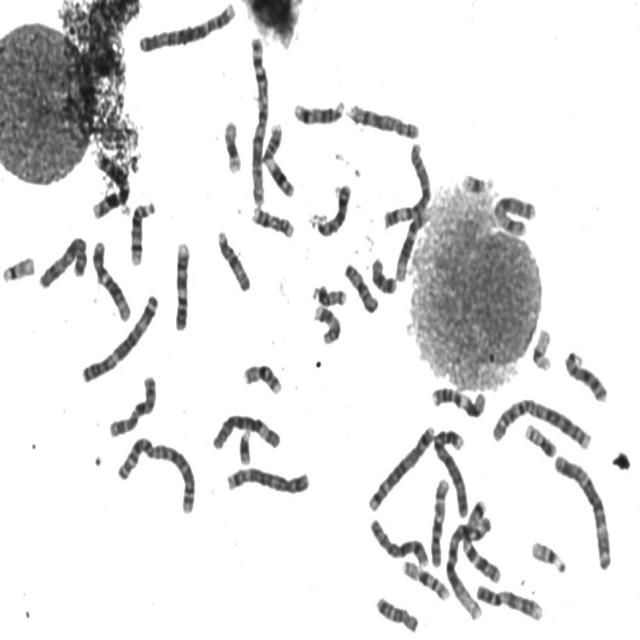A1: (442, 509, 493, 621), (246, 29, 271, 209)
A2: (114, 431, 198, 517), (488, 391, 594, 452)
A3: (78, 289, 162, 385), (551, 449, 614, 572)
B4: (136, 0, 238, 56), (430, 422, 471, 520)
B5: (365, 420, 436, 514), (223, 462, 312, 497)
C10: (106, 371, 159, 438), (428, 472, 452, 568)
C11: (260, 118, 298, 200), (428, 381, 488, 420)
C12: (89, 235, 133, 324), (392, 202, 433, 282)
C6: (381, 138, 434, 232), (208, 408, 283, 453)
C7: (462, 494, 504, 585), (88, 150, 132, 220)
C8: (366, 514, 431, 569), (344, 98, 421, 140)
C9: (473, 579, 545, 623), (170, 236, 192, 333)
D13: (562, 345, 610, 404), (310, 179, 352, 239)
D14: (127, 196, 157, 267), (290, 95, 347, 127)
D15: (214, 225, 253, 294), (342, 258, 381, 315)
E16: (399, 556, 452, 602), (240, 359, 284, 396)
E17: (248, 201, 296, 240), (310, 302, 342, 346)
E18: (372, 591, 420, 635), (368, 252, 399, 296)
F19: (220, 114, 243, 176), (528, 323, 554, 373)
F20: (522, 419, 558, 459), (310, 280, 349, 308)
G21: (458, 166, 495, 198), (236, 423, 253, 467)
G22: (528, 536, 568, 575), (0, 250, 37, 286)
X: (35, 230, 89, 292), (490, 189, 538, 238)
